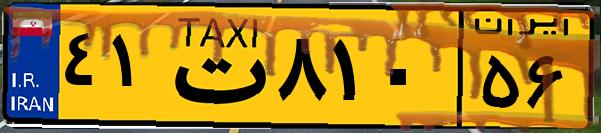0: (385, 28, 445, 110)
1: (330, 28, 385, 110), (110, 28, 158, 98)
4: (57, 26, 110, 100)
5: (475, 38, 525, 113)
6: (525, 38, 570, 115)
8: (270, 28, 330, 110)
ت: (158, 12, 270, 120)
